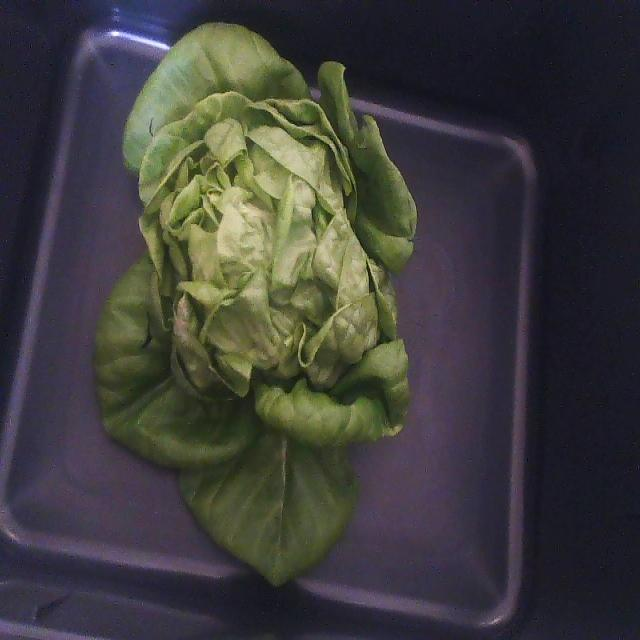lettuce: (96, 23, 416, 584)
